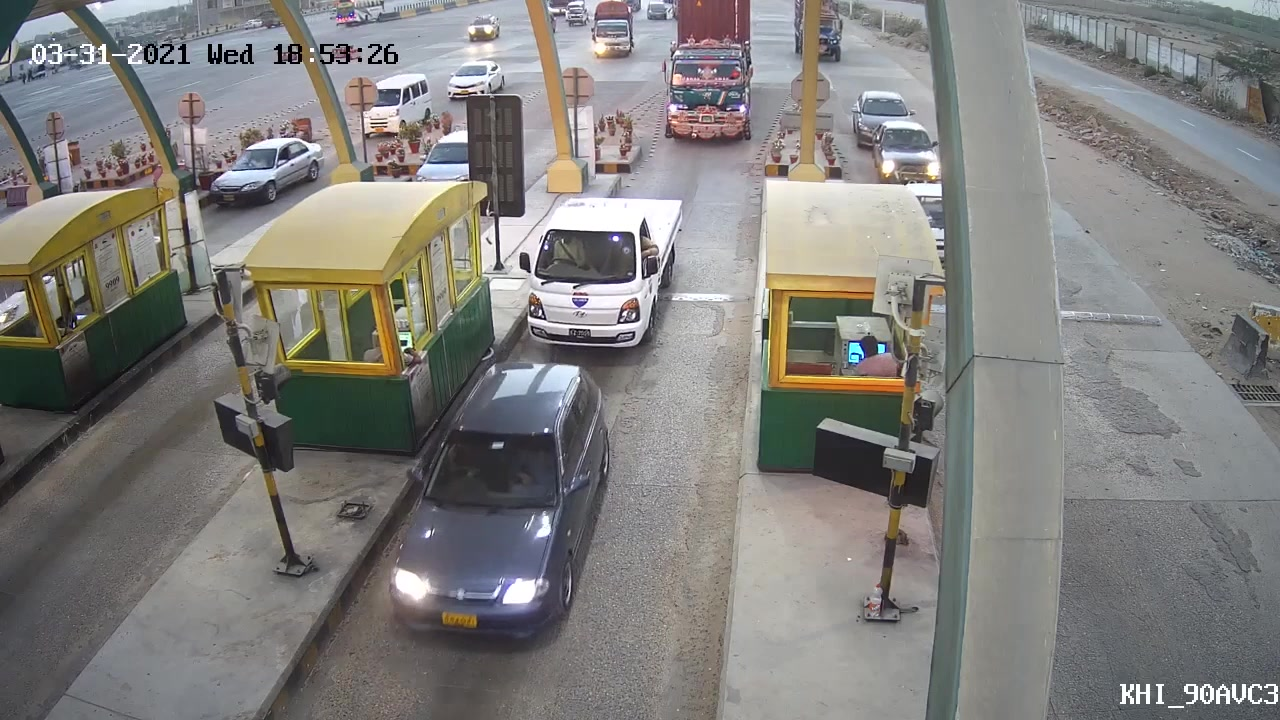F1: (376, 360, 615, 649)
F2: (517, 187, 683, 349)
